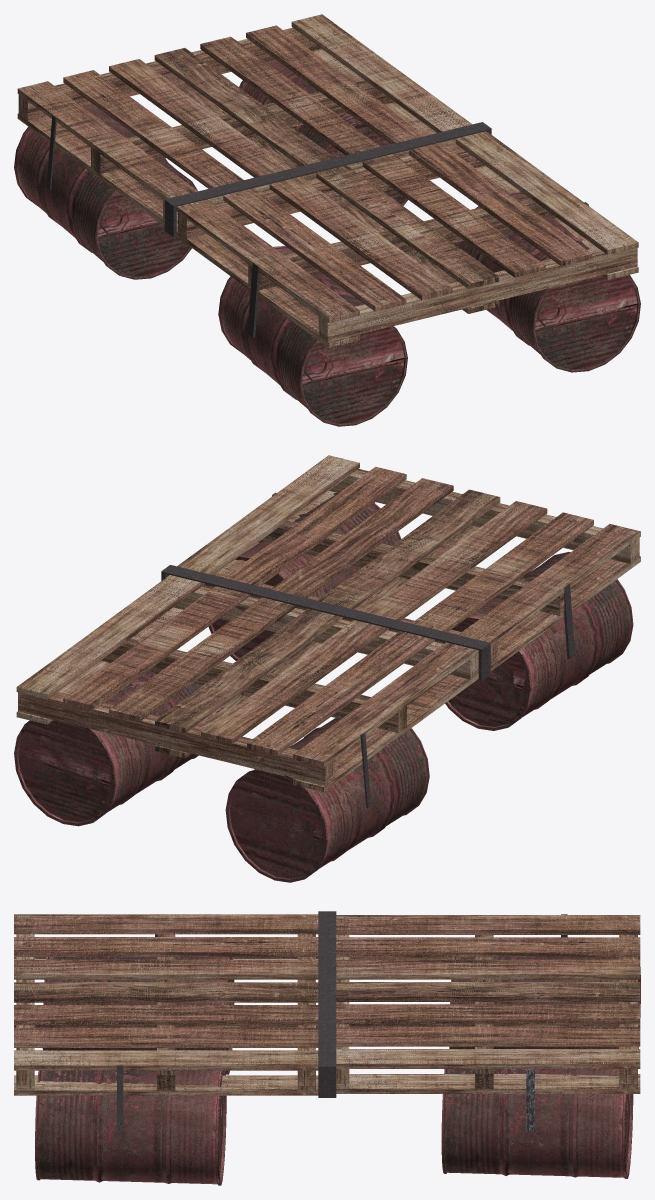
The model's file is Barrel_boat.fbx.
3 views of the same model, one above another, from view 1: azimuth 30°, elevation 25°; view 2: azimuth 150°, elevation 25°; view 3: azimuth 270°, elevation 25° (orthographic).
Parts seen in each view (by area): view 1: Group1; view 2: Group1; view 3: Group1.
Boxes of the visible parts, <box> form: Group1: <box>14,14,640,426</box>; Group1: <box>14,455,640,882</box>; Group1: <box>14,911,640,1185</box>.
Size of the model in its own units: 1803 by 665 by 2838.
